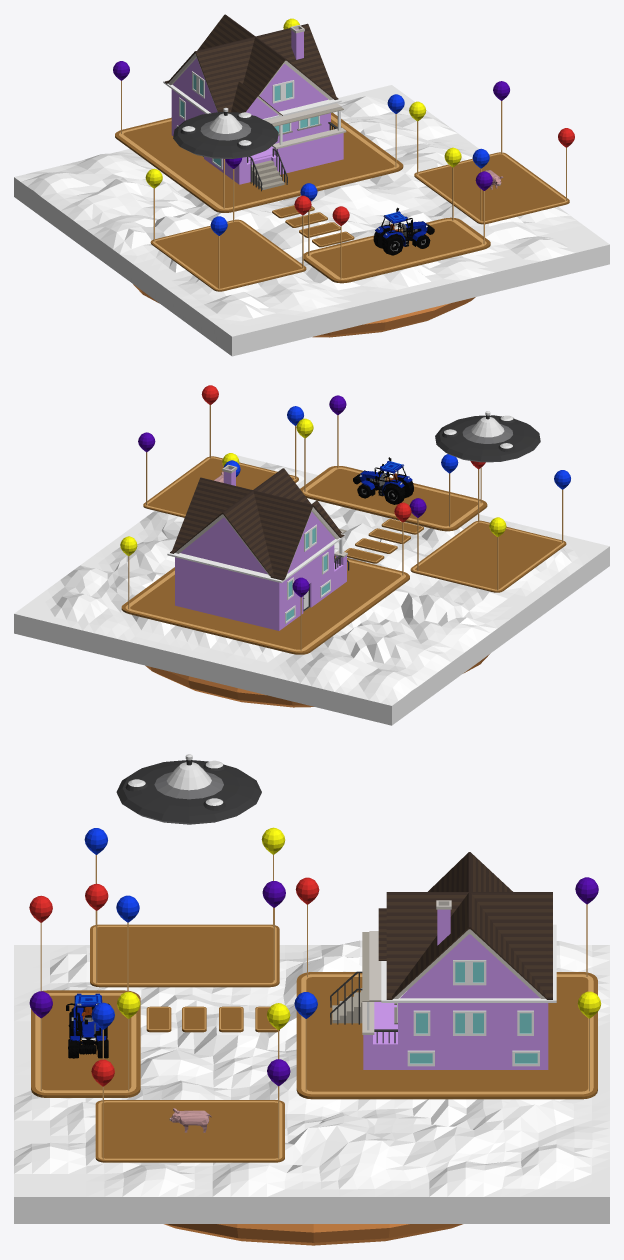
The picture shows the model from 3 angles, top to bottom: view 1: azimuth 30°, elevation 25°; view 2: azimuth 150°, elevation 25°; view 3: azimuth 270°, elevation 25°; orthographic projection. The views are drawn at different scales.
Visible parts, largest first — view 1: Cube.013, Cube.391, OBJRANDOM_UFO, VEHICLES_TRACTOR, UNDERGROUND_PIZZA; view 2: Cube.013, Cube.391, OBJRANDOM_UFO, UNDERGROUND_PIZZA, VEHICLES_TRACTOR; view 3: Cube.013, Cube.391, OBJRANDOM_UFO, UNDERGROUND_PIZZA, VEHICLES_TRACTOR.
Boxes of the visible parts, x1,y1,x2,y2 form: Cube.013: (14,18,609,356); Cube.391: (163,14,346,191); OBJRANDOM_UFO: (173,107,278,158); VEHICLES_TRACTOR: (373,207,434,255); UNDERGROUND_PIZZA: (133,284,475,337); Cube.013: (14,385,609,725); Cube.391: (167,464,349,630); OBJRANDOM_UFO: (435,411,540,462); UNDERGROUND_PIZZA: (145,654,489,707); VEHICLES_TRACTOR: (353,457,413,504); Cube.013: (14,827,609,1223); Cube.391: (330,852,556,1069); OBJRANDOM_UFO: (116,754,261,824); UNDERGROUND_PIZZA: (164,1224,462,1245); VEHICLES_TRACTOR: (66,993,109,1058).
Bounding box in the file's own units: 4000 × 2185 × 4000.
38 materials, 1 textured.
